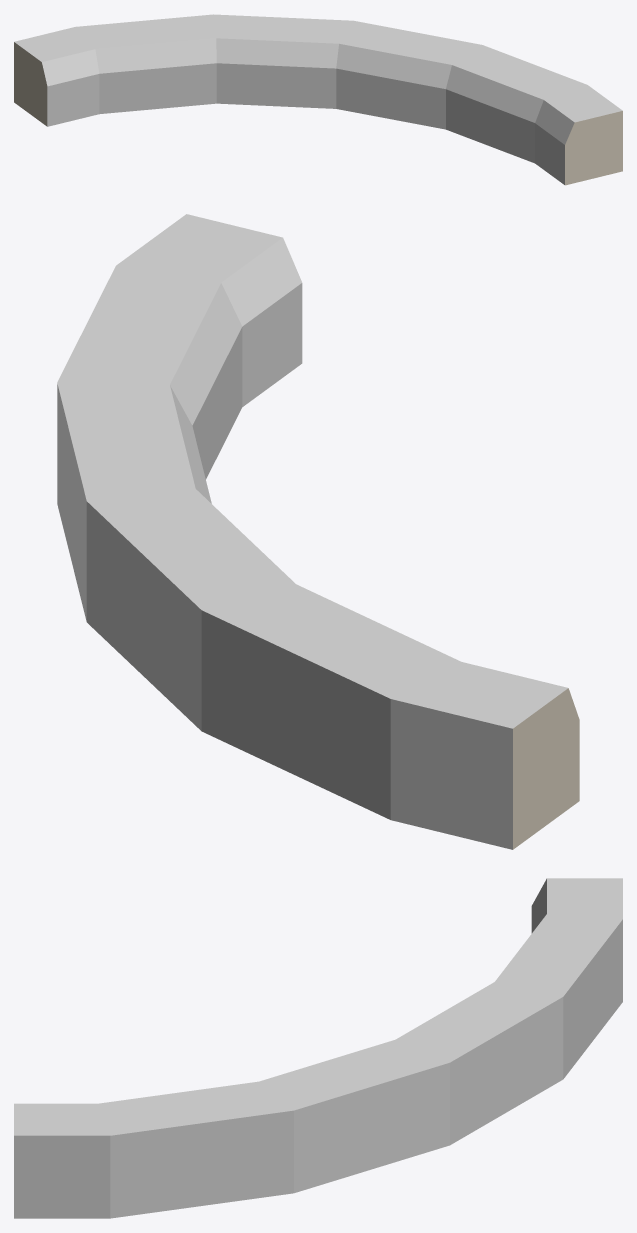
The model's file is Wall_Curved_Small_Base_Inner_Half.obj.
3 views of the same model, one above another, from view 1: azimuth 30°, elevation 25°; view 2: azimuth 150°, elevation 25°; view 3: azimuth 270°, elevation 25° (orthographic). The views are drawn at different scales.
Parts seen in each view (by area): view 1: object1; view 2: object1; view 3: object1.
Part boxes in pixels (box(x1,y1,x2,y2)): object1: box(14, 14, 622, 185); object1: box(57, 214, 579, 849); object1: box(14, 878, 622, 1218).
Size of the model in its own units: 1 by 0.15 by 1.
